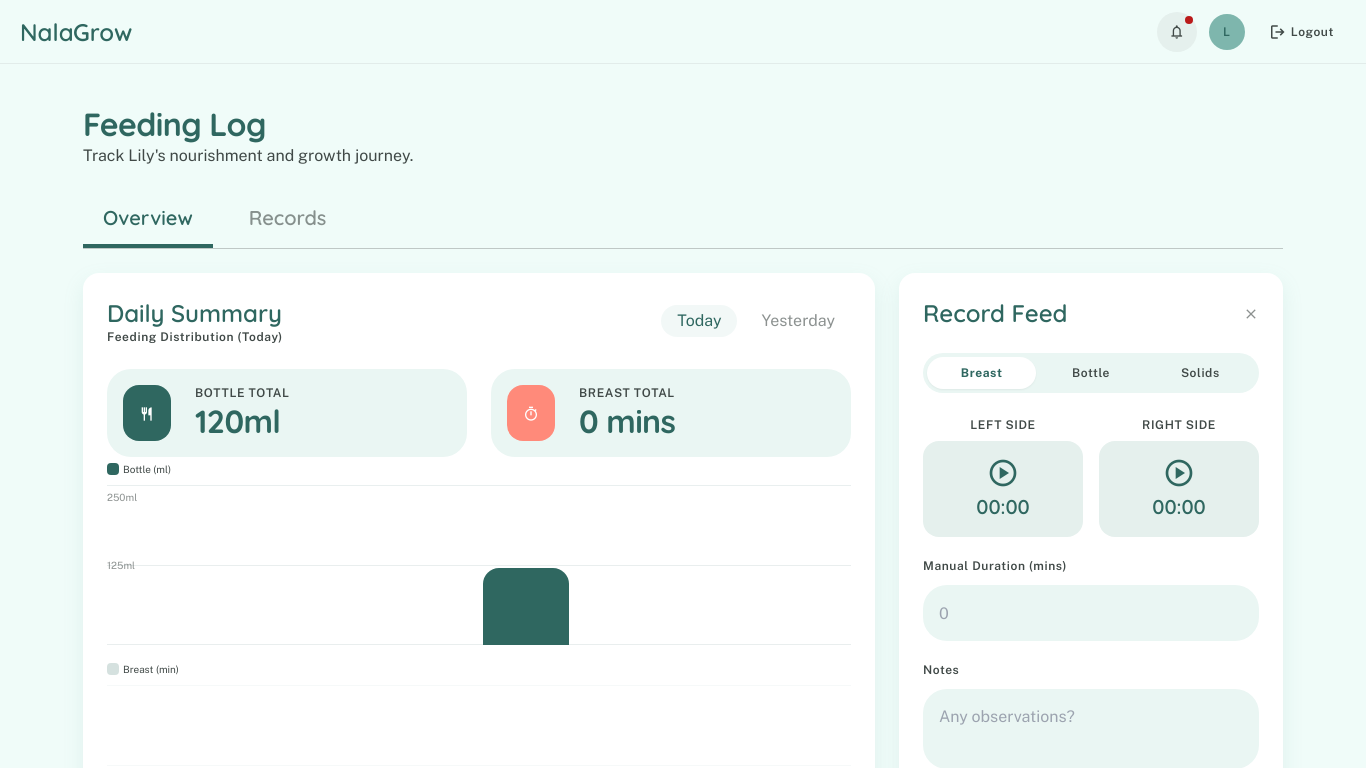
Scenario: FeedingPage › Daily range controls › switches totals and timeline records from today to yesterday
Check: the text "120ml" is shown, box [195,401,290,441]
Click the button "Yesterday": x=798, y=321 [746,305,851,337]
(page scrolled)
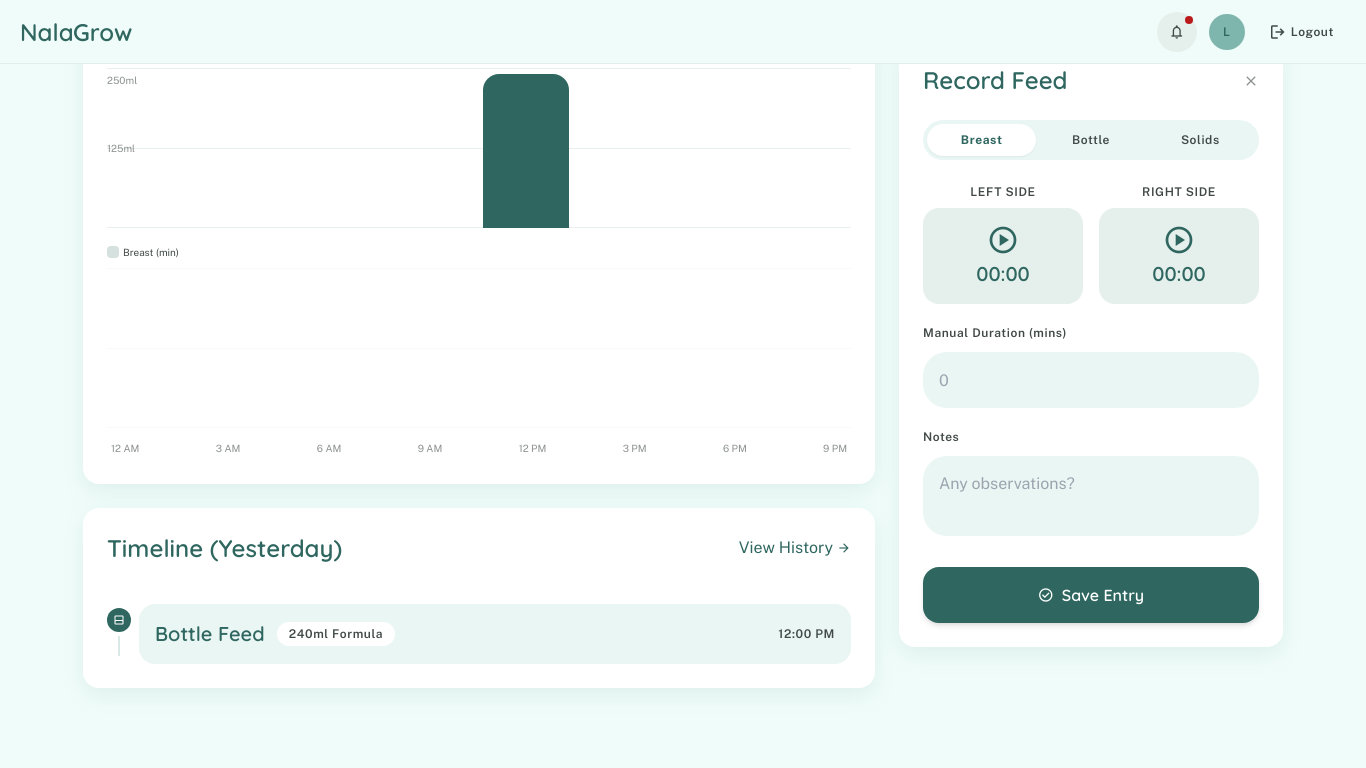
Check: the text "240ml Formula" is shown, box [277,622,395,646]
